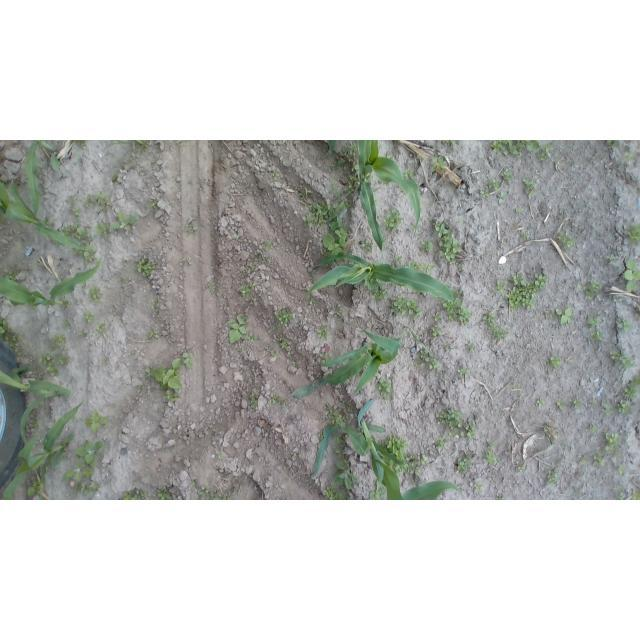Maize: (304, 394, 465, 500), (324, 140, 424, 254), (281, 328, 412, 413), (296, 244, 456, 310), (0, 140, 92, 254), (1, 401, 88, 500), (0, 247, 104, 312), (0, 362, 74, 448), (35, 140, 65, 174)
Weeds: (502, 271, 547, 314), (65, 439, 104, 482), (483, 140, 553, 161), (442, 289, 475, 325), (329, 202, 352, 246), (227, 312, 258, 343), (386, 453, 428, 475), (152, 366, 185, 393), (381, 434, 413, 459), (390, 297, 424, 320), (481, 311, 507, 341), (619, 258, 640, 294), (38, 350, 65, 378), (439, 234, 465, 263), (435, 408, 465, 433), (413, 344, 440, 371), (335, 459, 358, 490), (317, 233, 347, 256), (81, 191, 115, 211), (113, 211, 143, 233), (170, 350, 197, 374), (61, 223, 96, 241), (374, 377, 396, 405), (308, 201, 332, 226), (366, 278, 391, 302), (607, 347, 633, 370), (135, 258, 161, 281), (322, 485, 359, 500), (383, 207, 405, 232), (621, 374, 640, 402), (85, 411, 108, 434), (107, 140, 150, 152), (403, 258, 438, 272), (583, 278, 603, 302), (325, 406, 349, 426), (274, 305, 294, 327), (455, 450, 473, 474), (1, 317, 16, 345), (8, 333, 25, 357), (121, 488, 152, 501), (332, 432, 348, 457), (601, 432, 620, 453), (428, 155, 448, 174), (369, 480, 388, 500), (521, 177, 538, 199), (556, 307, 575, 326), (544, 466, 562, 486), (274, 333, 292, 352), (81, 242, 98, 262), (328, 188, 354, 201), (52, 332, 69, 351), (626, 224, 640, 247), (155, 486, 178, 500), (88, 284, 104, 304), (484, 448, 500, 468), (269, 395, 291, 409), (618, 399, 635, 417), (615, 318, 633, 335), (434, 220, 451, 238), (313, 326, 331, 343), (182, 220, 200, 237), (163, 388, 181, 405), (459, 422, 477, 439), (346, 172, 358, 197), (247, 392, 262, 412), (92, 222, 115, 235), (557, 233, 574, 250), (75, 483, 101, 494), (301, 213, 317, 230), (239, 283, 258, 297), (492, 278, 508, 294), (549, 354, 564, 371), (330, 303, 347, 318), (593, 451, 608, 467), (329, 159, 345, 174), (502, 167, 515, 185), (299, 189, 314, 204), (419, 239, 434, 254), (391, 255, 407, 269), (358, 236, 372, 252), (66, 193, 82, 207), (59, 350, 72, 367), (571, 396, 586, 410), (604, 253, 618, 268), (589, 328, 605, 341), (456, 363, 469, 379), (148, 330, 165, 342), (210, 491, 232, 500), (587, 317, 602, 330), (291, 447, 304, 462), (436, 435, 449, 450), (534, 394, 547, 408), (343, 146, 357, 159), (487, 179, 501, 192), (83, 311, 96, 325), (144, 366, 158, 379), (270, 170, 282, 185), (206, 282, 218, 297), (150, 199, 162, 214), (497, 191, 508, 207), (315, 352, 331, 363), (150, 297, 161, 313), (624, 151, 637, 164), (181, 255, 195, 267), (479, 188, 491, 201), (465, 342, 477, 355), (430, 310, 442, 323), (94, 322, 106, 335), (473, 480, 485, 493), (485, 439, 497, 452), (515, 461, 528, 473), (348, 158, 359, 172), (101, 357, 115, 368), (519, 229, 531, 241), (430, 324, 442, 336), (268, 348, 280, 360), (198, 486, 214, 495), (586, 422, 599, 433), (72, 206, 83, 219), (305, 298, 320, 307), (603, 404, 614, 416), (404, 167, 415, 179), (62, 319, 74, 330), (629, 488, 640, 500), (607, 140, 623, 148), (444, 340, 453, 354), (616, 463, 627, 474), (557, 399, 568, 410), (263, 240, 274, 251), (189, 479, 201, 489), (444, 140, 458, 148), (316, 428, 324, 442), (329, 181, 339, 192), (457, 263, 467, 274), (79, 331, 89, 342), (217, 451, 227, 461), (449, 431, 459, 441), (617, 491, 628, 500), (612, 297, 624, 305), (136, 385, 146, 394), (578, 458, 588, 467), (255, 140, 269, 146), (613, 452, 622, 461), (229, 487, 238, 496), (111, 173, 119, 183), (616, 484, 625, 492), (290, 359, 298, 368), (514, 206, 522, 214), (218, 405, 226, 413), (495, 496, 506, 500), (200, 496, 209, 500)
